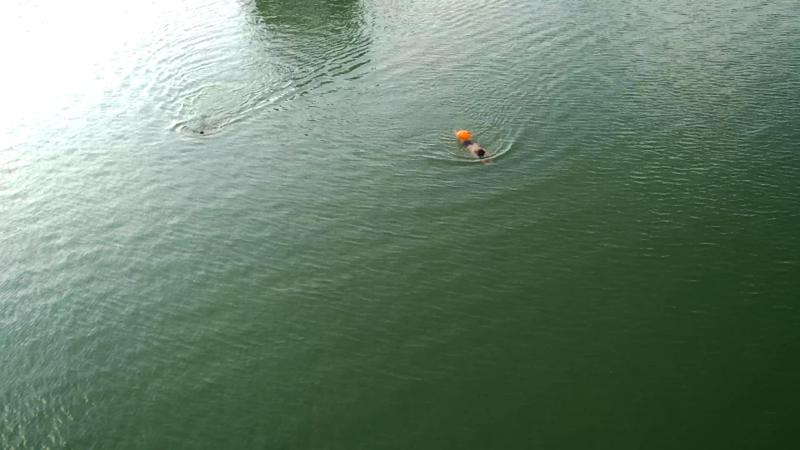swimmers: (455, 128, 493, 165)
